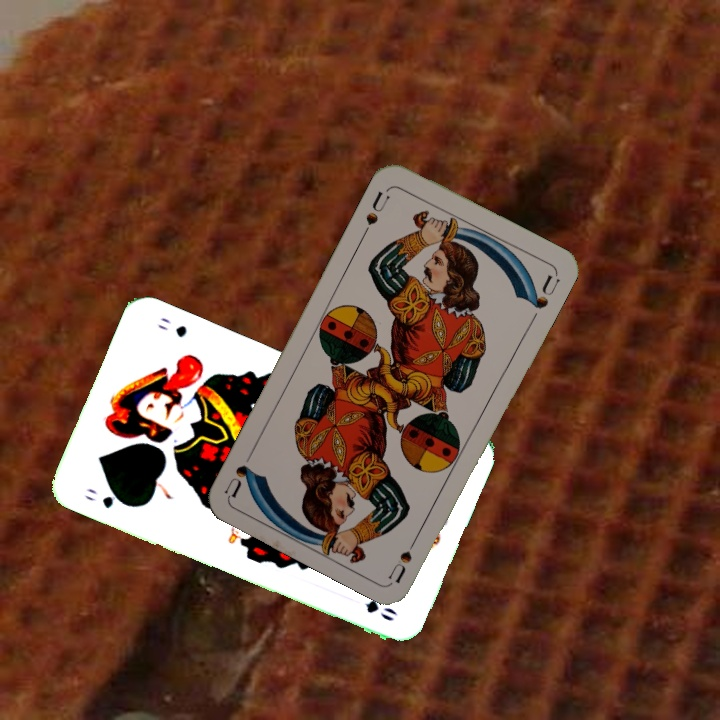GO: (81, 484, 132, 511)
SU: (385, 527, 423, 584), (358, 184, 393, 239)
